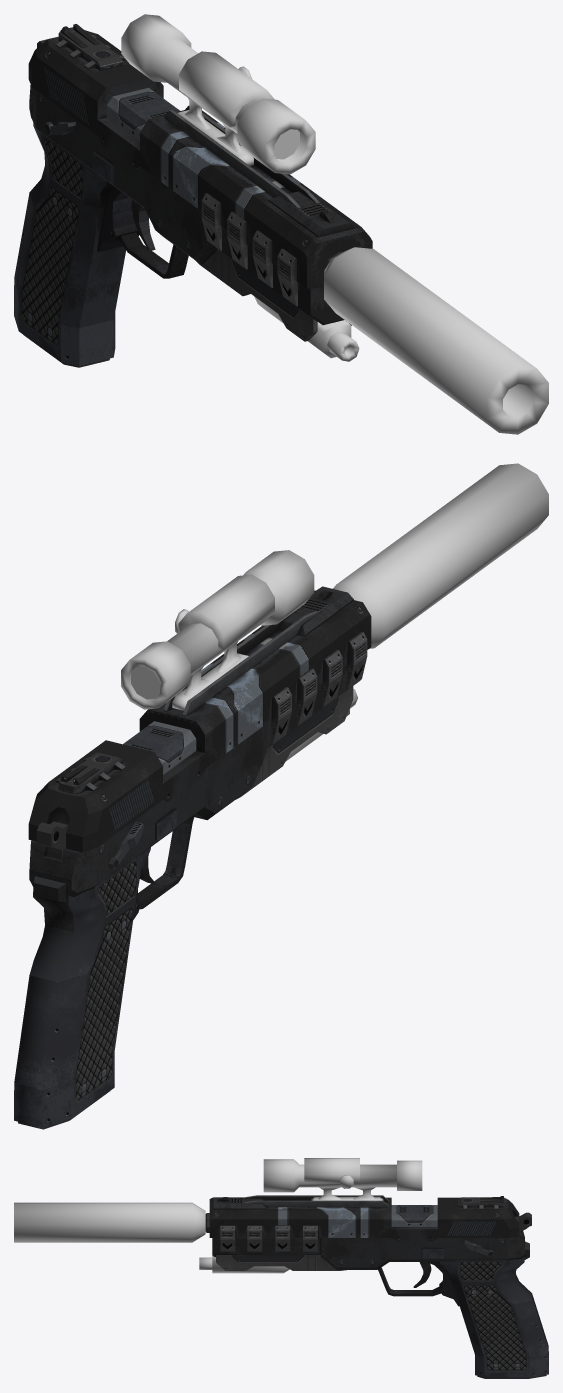
Rendered from Postal6.fbx.
3 views of the same model, one above another, from view 1: azimuth 30°, elevation 25°; view 2: azimuth 150°, elevation 25°; view 3: azimuth 270°, elevation 25° (orthographic). The views are drawn at different scales.
Visible parts, largest first — view 1: Pistol1Static, ScifiPistolSilencer, ScifiPistolScope, ScifiPistolLasersight, ScifiPistolScopeAim; view 2: Pistol1Static, ScifiPistolSilencer, ScifiPistolScope; view 3: Pistol1Static, ScifiPistolSilencer, ScifiPistolScope, ScifiPistolLasersight.
Part boxes in pixels (<box>): Pistol1Static: <box>14,24,372,367</box>; ScifiPistolSilencer: <box>324,247,548,434</box>; ScifiPistolScope: <box>121,14,315,174</box>; ScifiPistolLasersight: <box>254,296,359,361</box>; ScifiPistolScopeAim: <box>274,129,299,159</box>; Pistol1Static: <box>14,586,371,1129</box>; ScifiPistolSilencer: <box>333,463,548,648</box>; ScifiPistolScope: <box>121,550,314,710</box>; Pistol1Static: <box>205,1195,548,1378</box>; ScifiPistolSilencer: <box>14,1202,205,1242</box>; ScifiPistolScope: <box>263,1158,422,1200</box>; ScifiPistolLasersight: <box>199,1255,289,1273</box>.
Bounding box in the file's own units: 2.4 × 11.53 × 26.21.
